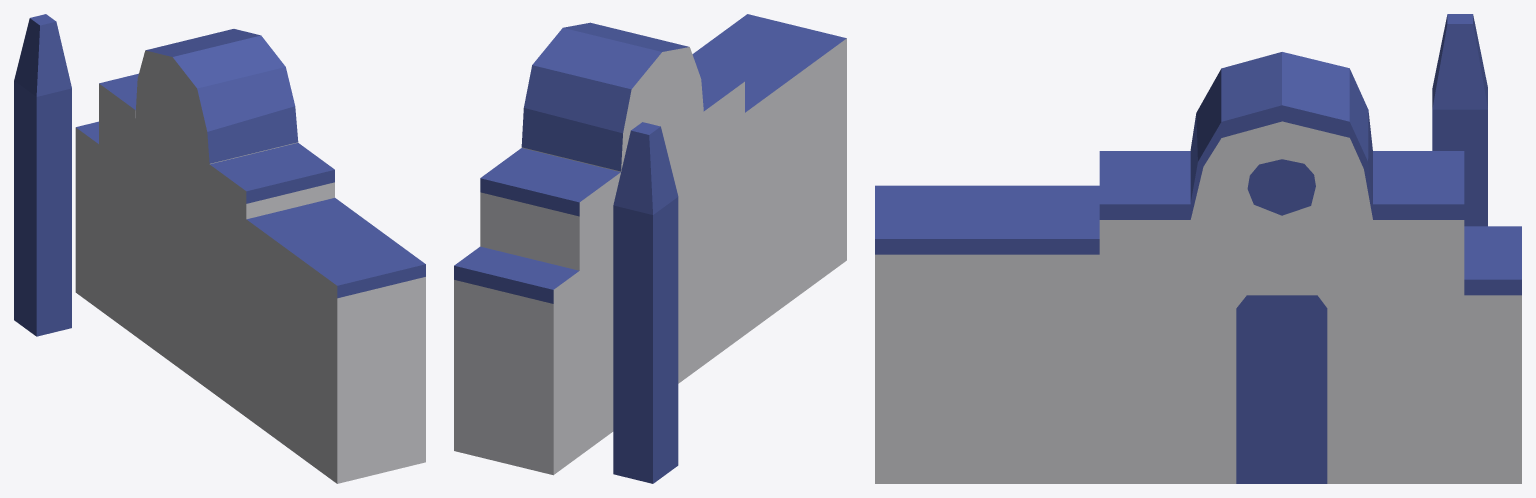
File: tower.gltf
3 renders of one model, left to right at view 1: azimuth 30°, elevation 25°; view 2: azimuth 150°, elevation 25°; view 3: azimuth 270°, elevation 25°, orthographic. The views are drawn at different scales.
Parts seen in each view (by area): view 1: Cube, Cube.001; view 2: Cube, Cube.001; view 3: Cube, Cube.001.
Boxes of the visible parts, x1,y1,x2,y2 form: Cube: (75,29,425,483); Cube.001: (14,14,71,336); Cube: (454,14,846,475); Cube.001: (613,122,678,483); Cube: (875,52,1521,483); Cube.001: (1432,14,1487,226).
Bounding box in the file's own units: 1.85 × 3.3 × 5.11.
